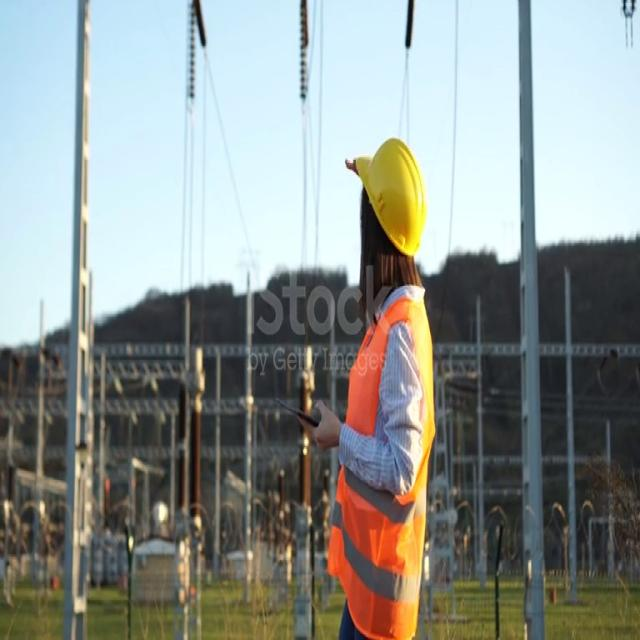capacete: (343, 109, 434, 230)
